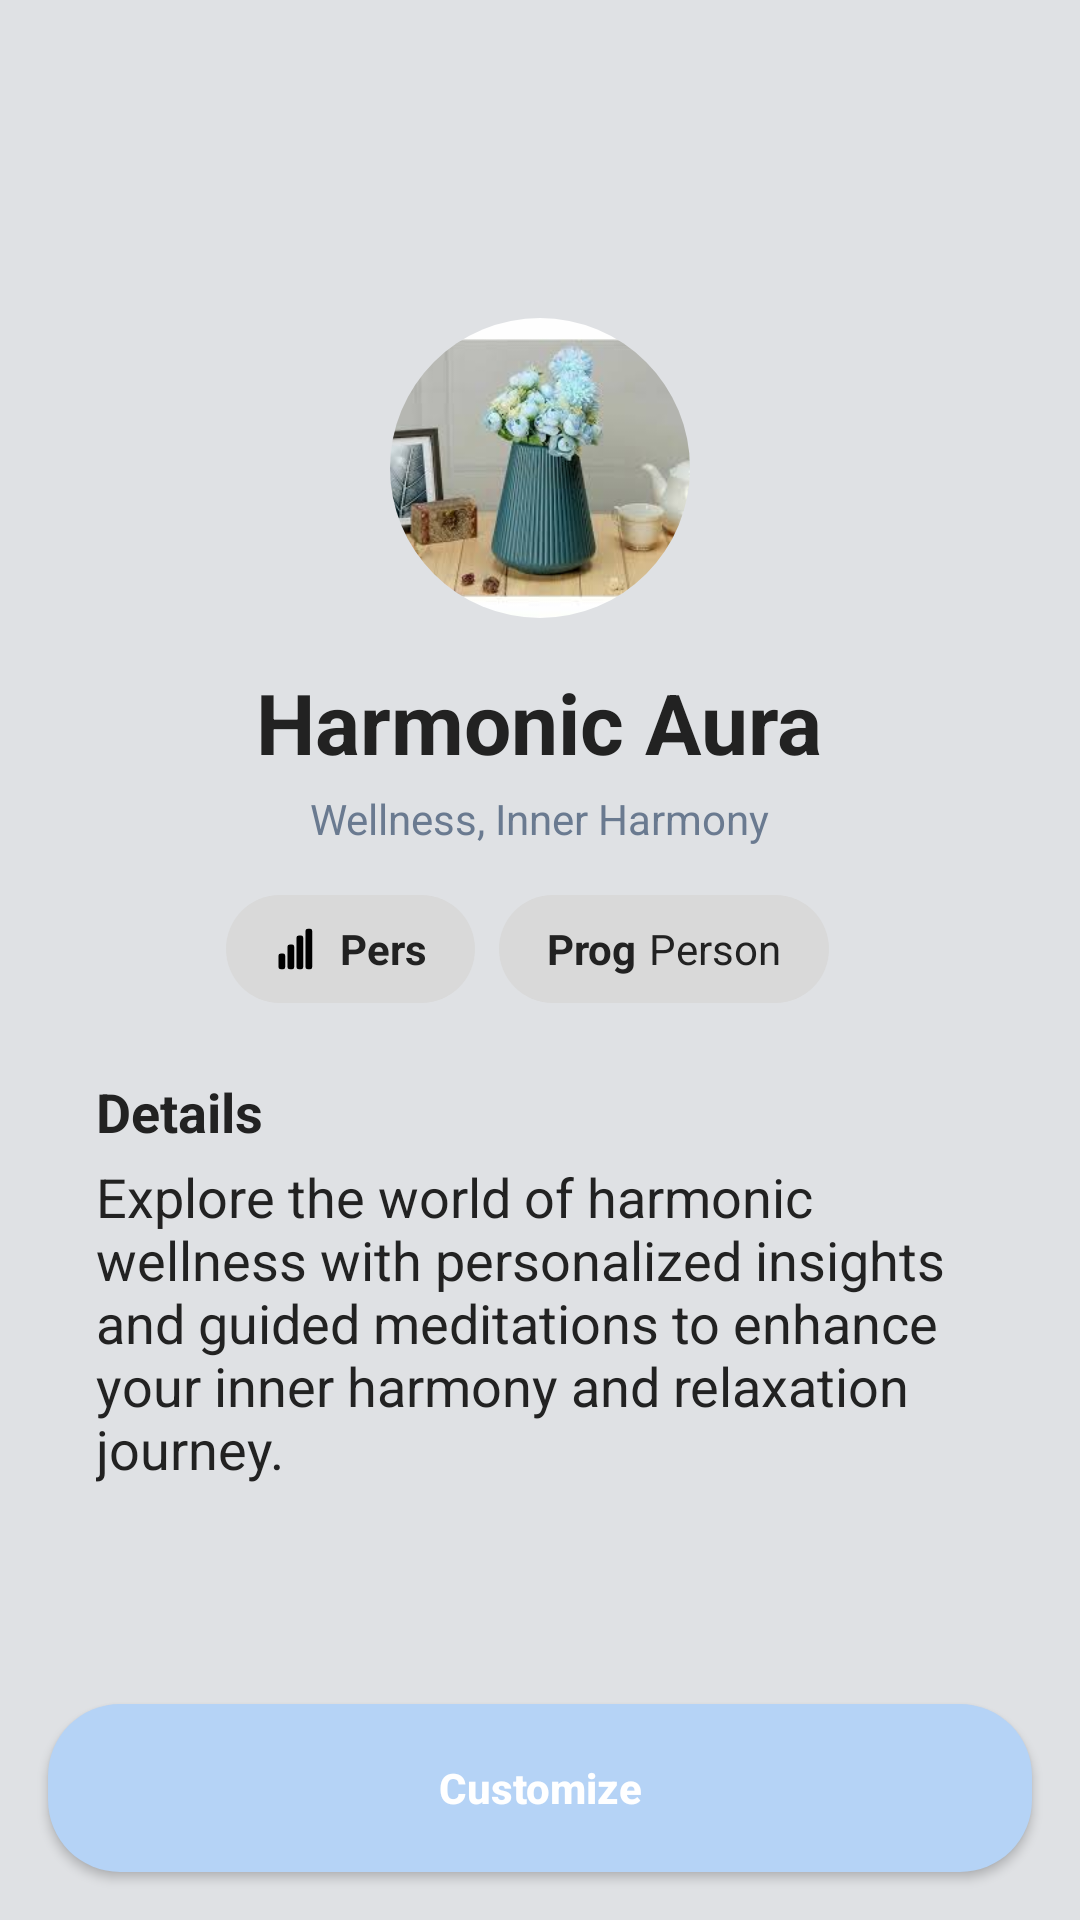

Screen size 1080×1920. Icon name, then its center in pixels as (x=x, y=y):
stats: (x=295, y=949)
